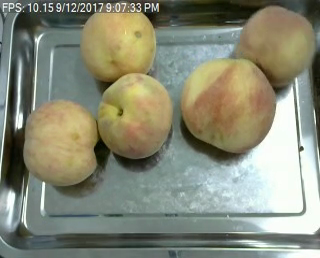Peach: (182, 58, 278, 151), (21, 98, 97, 191), (98, 72, 172, 159), (238, 4, 314, 84), (81, 4, 157, 82)
